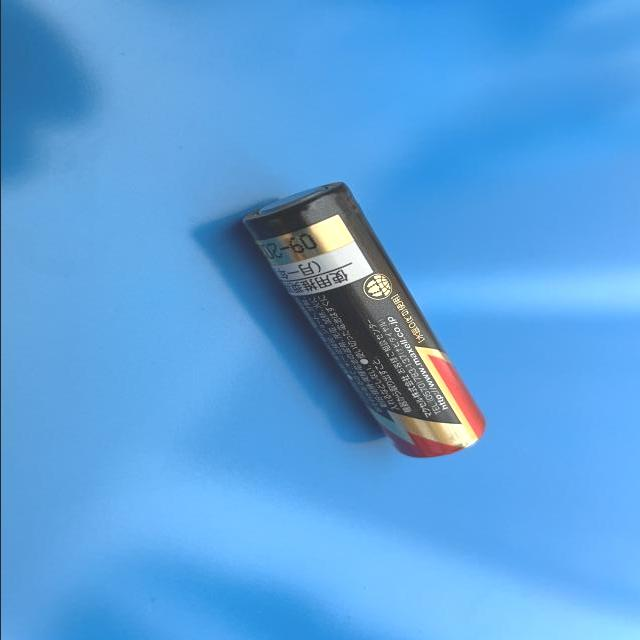AA: (236, 178, 488, 459)
